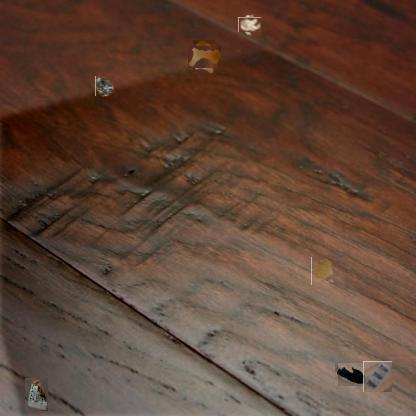dirty: (363, 361, 392, 392), (24, 378, 48, 412), (334, 362, 366, 386), (95, 76, 114, 96), (240, 15, 259, 34)
liquid: (190, 43, 218, 71), (311, 257, 334, 285)
